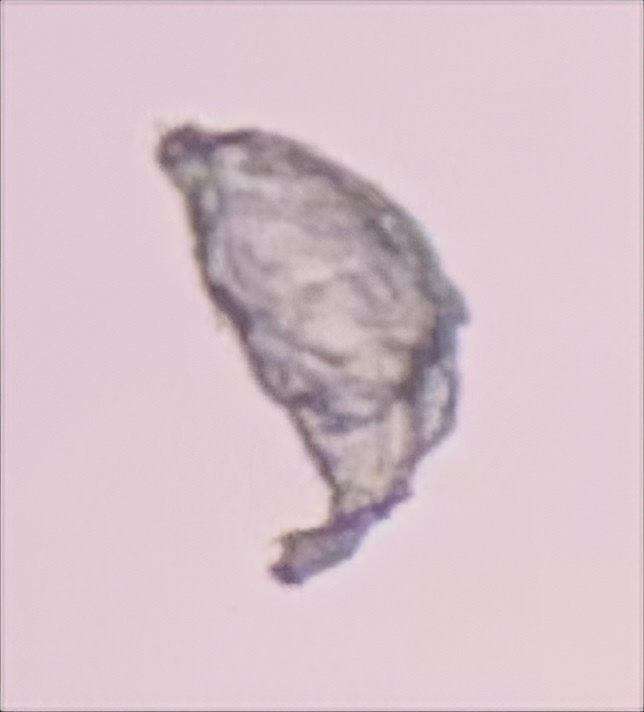microplastic: (150, 117, 473, 590)
